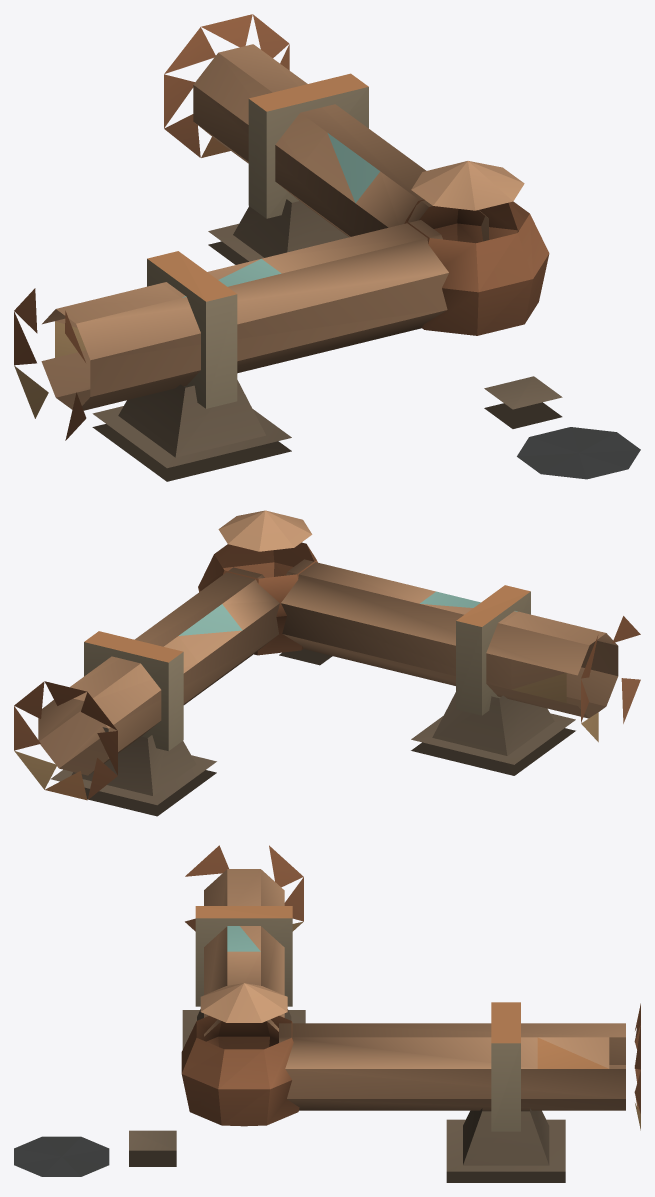
Rendered from junction.lod.glb.
The picture shows the model from 3 angles, top to bottom: view 1: azimuth 30°, elevation 25°; view 2: azimuth 150°, elevation 25°; view 3: azimuth 270°, elevation 25°; orthographic projection. The views are drawn at different scales.
Visible parts, largest first — view 1: junction; view 2: junction; view 3: junction.
Boxes of the visible parts, left/top/right/bottom form: junction: left=14, top=14, right=640, bottom=481; junction: left=14, top=510, right=640, bottom=816; junction: left=14, top=845, right=640, bottom=1182.
Bounding box in the file's own units: 2.32 × 0.9664 × 3.16.
